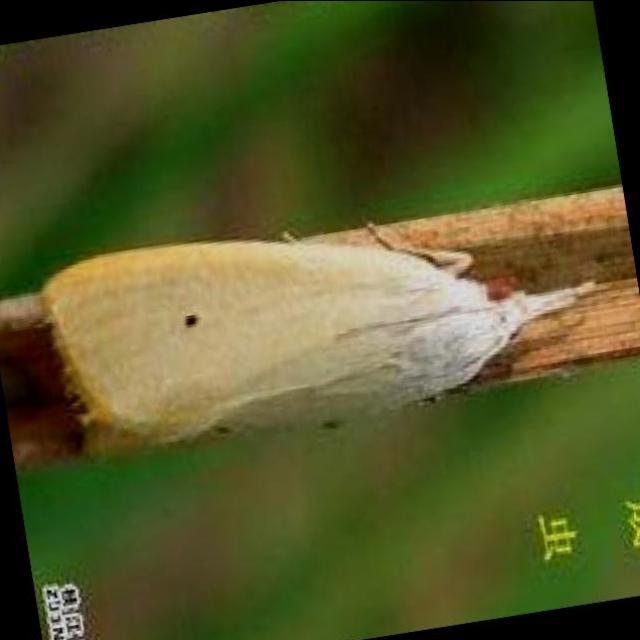stem borer: (40, 225, 593, 453)
